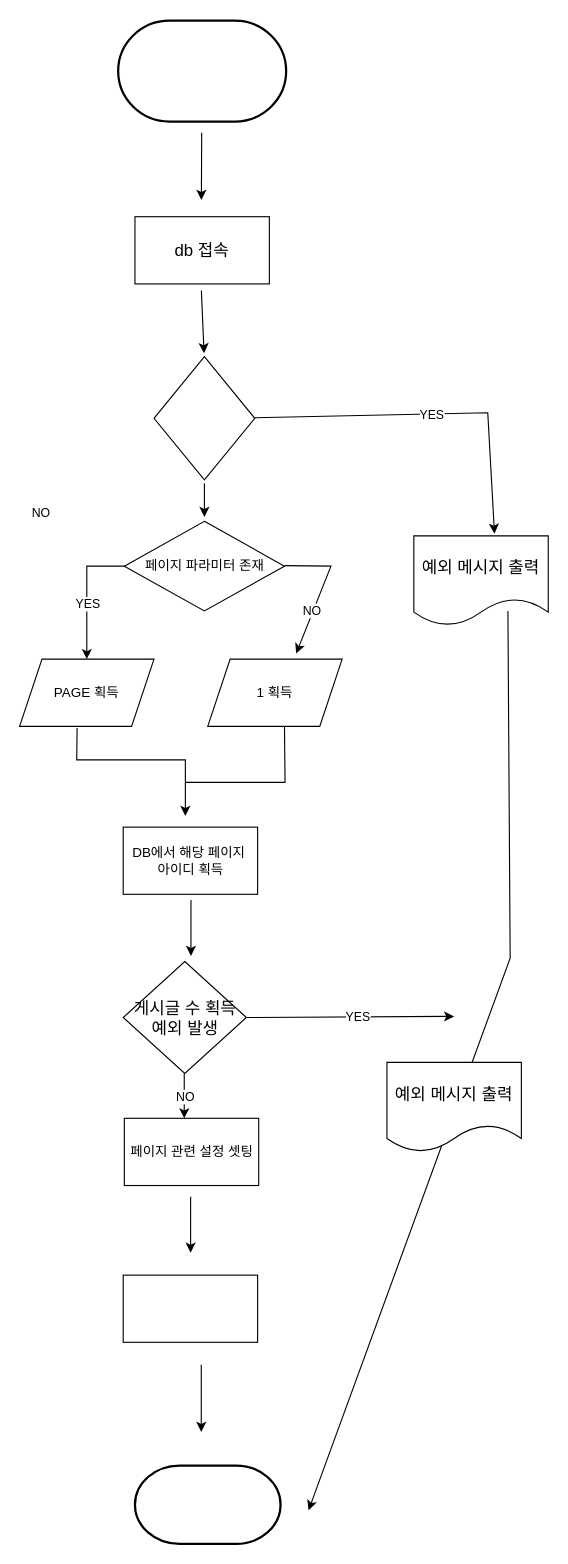
Some shapes in this 568 by 1564 pixel diagram are drawn without their labels. The centre of each missing label's shape, as x and y in pixels:
"DB 접속 예외 발생" goes at point (204, 418).
"DB에서 게시글 조회" goes at point (190, 1308).
"리스트 페이지 시작" goes at point (201, 70).
"리스트 페이지 종료" goes at point (207, 1504).
